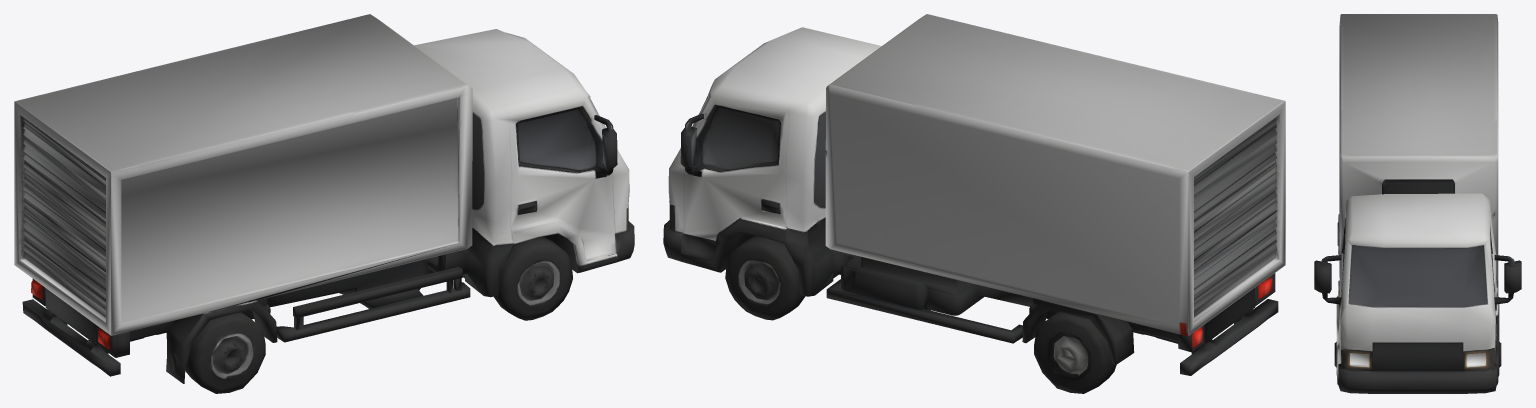
The model's file is truck-tripo.glb.
The picture shows the model from 3 angles, left to right: view 1: azimuth 30°, elevation 25°; view 2: azimuth 150°, elevation 25°; view 3: azimuth 270°, elevation 25°; orthographic projection. The views are drawn at different scales.
Parts seen in each view (by area): view 1: tripo_node_cb4a0204-3e9c-469d-965e-0980c994e6bb; view 2: tripo_node_cb4a0204-3e9c-469d-965e-0980c994e6bb; view 3: tripo_node_cb4a0204-3e9c-469d-965e-0980c994e6bb.
Part boxes in pixels (box(x1,y1,x2,y2)): tripo_node_cb4a0204-3e9c-469d-965e-0980c994e6bb: box(14, 14, 634, 393); tripo_node_cb4a0204-3e9c-469d-965e-0980c994e6bb: box(663, 14, 1285, 393); tripo_node_cb4a0204-3e9c-469d-965e-0980c994e6bb: box(1314, 14, 1521, 393).
Bounding box in the file's own units: 1 × 0.4521 × 0.4188.
1 material, 1 textured.
